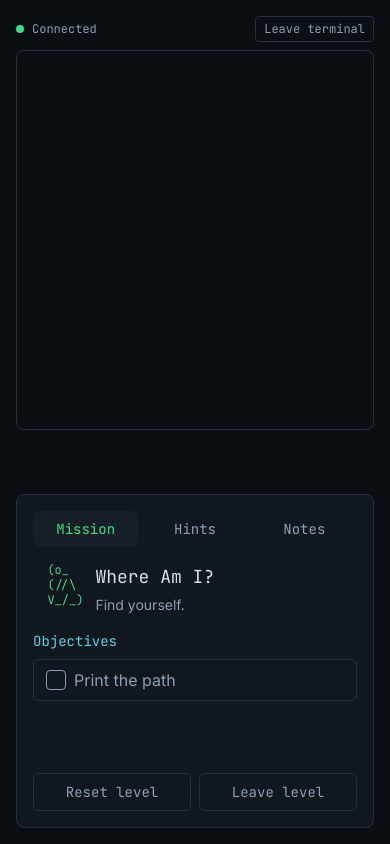
LevelPage › shows spellbook notes for the level skills in the notes tab
This screenshot has width=390, height=844.
Expected: the element with test id "terminal-container" is shown, top-left (16, 50), bottom-right (374, 430)
Click the tab "Notes" at (304, 529), box top-left (252, 511), bottom-right (357, 547)
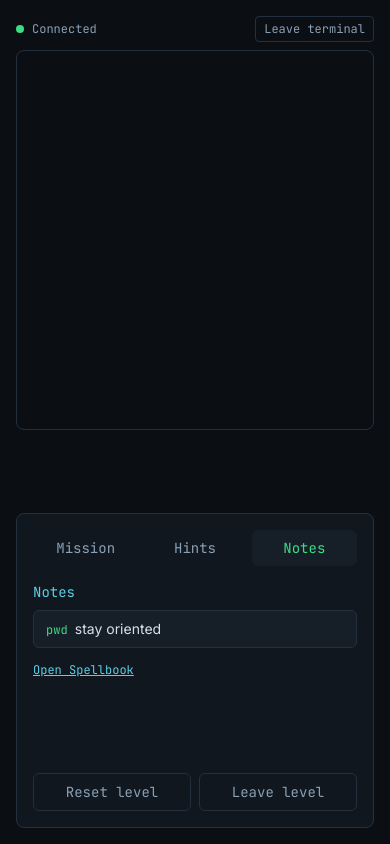
Now the list item "stay oriented" is shown, box top-left (75, 620), bottom-right (161, 637)
